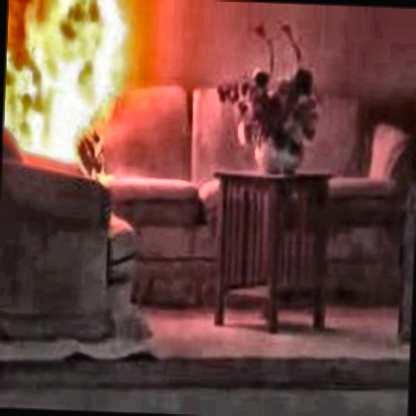fire: (0, 0, 146, 215)
